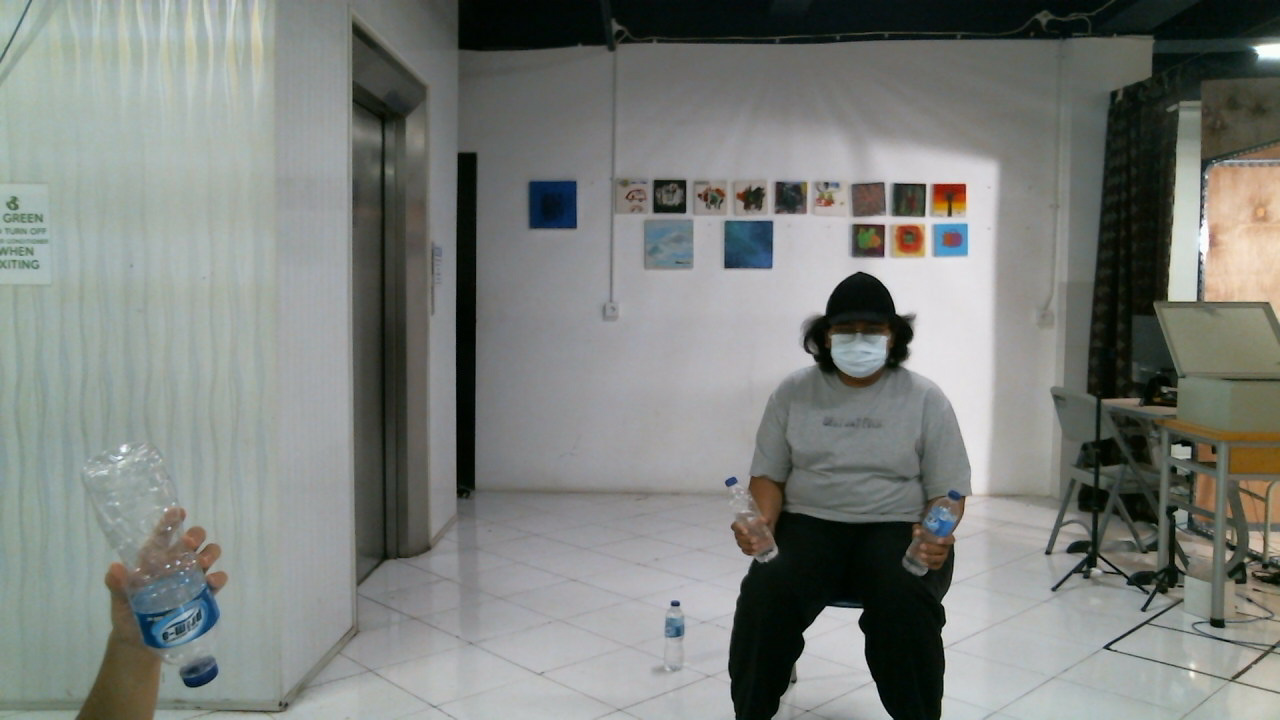Bottle: (80, 436, 225, 693)
